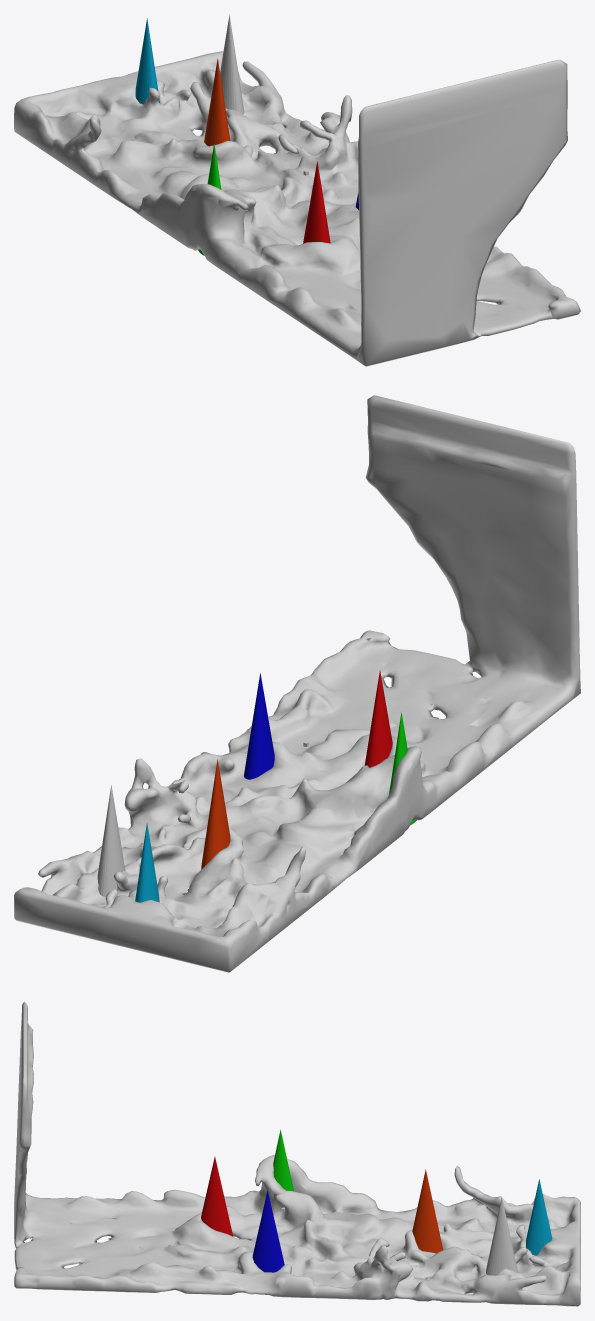
3 renders of one model, top to bottom at view 1: azimuth 30°, elevation 25°; view 2: azimuth 150°, elevation 25°; view 3: azimuth 270°, elevation 25°, orthographic. The views are drawn at different scales.
Parts seen in each view (by area): view 1: Liquid_Domain, 円錐, 円錐.004, 円錐.001, 円錐.005; view 2: Liquid_Domain, 円錐.002, 円錐, 円錐.004, 円錐.001, 円錐.005; view 3: Liquid_Domain, 円錐.002, 円錐.004, 円錐, 円錐.001, 円錐.005, 円錐.003.
Boxes of the visible parts, <box> form: Liquid_Domain: <box>14,51,580,366</box>; 円錐: <box>220,14,244,114</box>; 円錐.004: <box>204,58,230,146</box>; 円錐.001: <box>303,161,330,243</box>; 円錐.005: <box>135,18,160,104</box>; Liquid_Domain: <box>14,395,580,972</box>; 円錐.002: <box>244,673,274,779</box>; 円錐: <box>97,785,125,896</box>; 円錐.004: <box>201,759,230,869</box>; 円錐.001: <box>364,670,392,767</box>; 円錐.005: <box>135,822,159,902</box>; Liquid_Domain: <box>14,1001,580,1306</box>; 円錐.002: <box>252,1191,284,1272</box>; 円錐.004: <box>412,1169,443,1253</box>; 円錐: <box>486,1197,517,1275</box>; 円錐.001: <box>201,1156,233,1236</box>; 円錐.005: <box>526,1179,552,1255</box>; 円錐.003: <box>273,1130,293,1191</box>.
Size of the model in its own units: 129 by 158 by 361.
